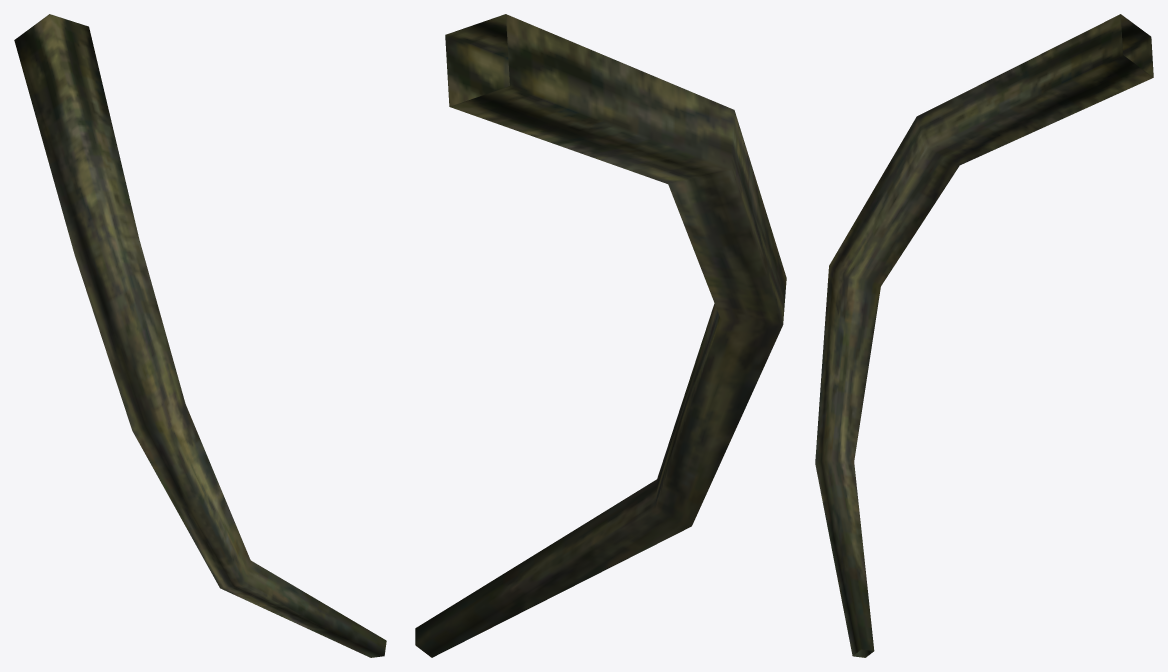
File: OVERHILL_A_01_LINE338.fbx
The picture shows the model from 3 angles, left to right: view 1: azimuth 30°, elevation 25°; view 2: azimuth 150°, elevation 25°; view 3: azimuth 270°, elevation 25°; orthographic projection. The views are drawn at different scales.
Visible parts, largest first — view 1: OVERHILL_A_01_LINE338; view 2: OVERHILL_A_01_LINE338; view 3: OVERHILL_A_01_LINE338.
Boxes of the visible parts, box(x1,y1,x2,y2) form: OVERHILL_A_01_LINE338: box(14, 14, 386, 657); OVERHILL_A_01_LINE338: box(415, 14, 786, 657); OVERHILL_A_01_LINE338: box(815, 14, 1153, 657).
Size of the model in its own units: 5610 by 11917 by 6553.
Materials: 1 (1 with a texture image).
